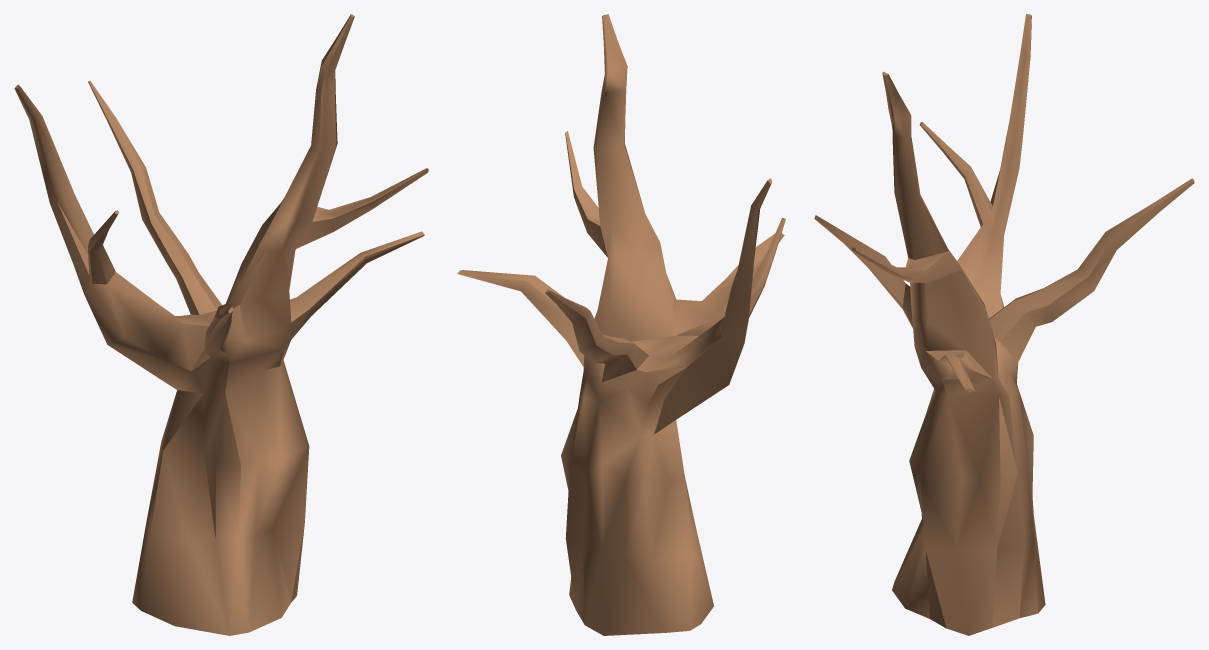
Rendered from doak2.fbx.
The picture shows the model from 3 angles, left to right: view 1: azimuth 30°, elevation 25°; view 2: azimuth 150°, elevation 25°; view 3: azimuth 270°, elevation 25°; orthographic projection. The views are drawn at different scales.
Visible parts, largest first — view 1: Trunk.003; view 2: Trunk.003; view 3: Trunk.003.
Part boxes in pixels (left/top/right/bottom): Trunk.003: left=14, top=14, right=428, bottom=635; Trunk.003: left=457, top=14, right=785, bottom=635; Trunk.003: left=814, top=14, right=1194, bottom=635.
Bounding box in the file's own units: 1.03 × 1.58 × 0.9551.
